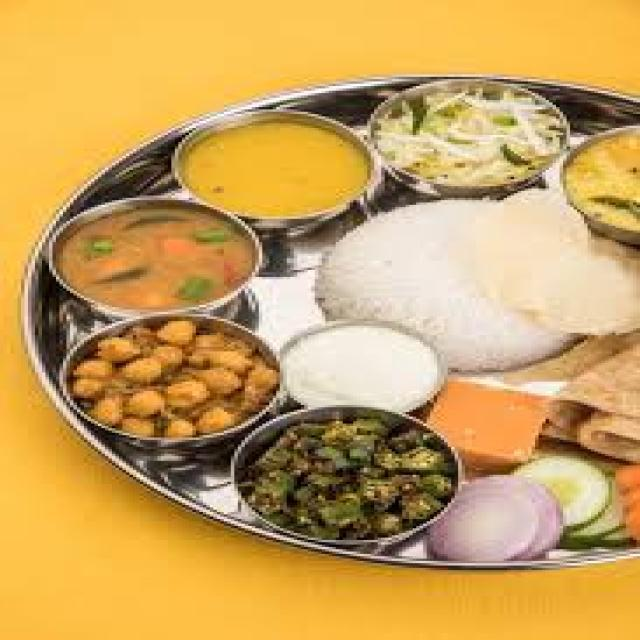curd: (269, 315, 457, 416)
dal: (46, 204, 268, 318), (165, 112, 381, 221), (561, 126, 638, 238)
